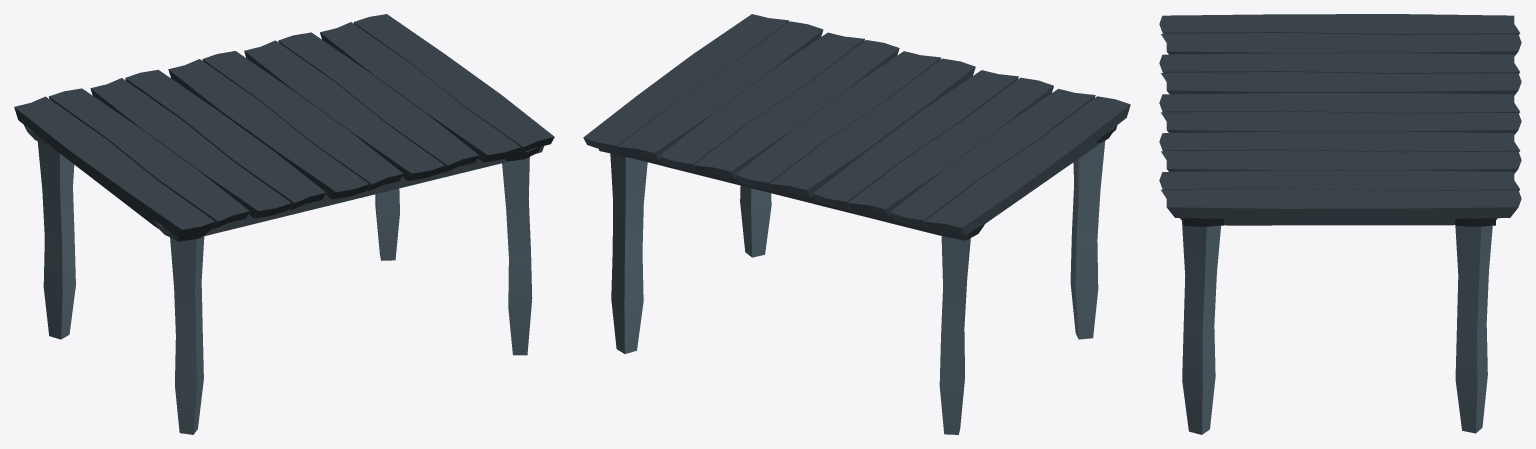
The model's file is Mesa2L.fbx.
3 renders of one model, left to right at view 1: azimuth 30°, elevation 25°; view 2: azimuth 150°, elevation 25°; view 3: azimuth 270°, elevation 25°, orthographic. The views are drawn at different scales.
Visible parts, largest first — view 1: Mesa2L; view 2: Mesa2L; view 3: Mesa2L.
Part boxes in pixels (x1=…): Mesa2L: x1=14, y1=14, x2=554, y2=434; Mesa2L: x1=583, y1=14, x2=1130, y2=434; Mesa2L: x1=1159, y1=14, x2=1521, y2=434.
Size of the model in its own units: 180 by 100 by 141.
